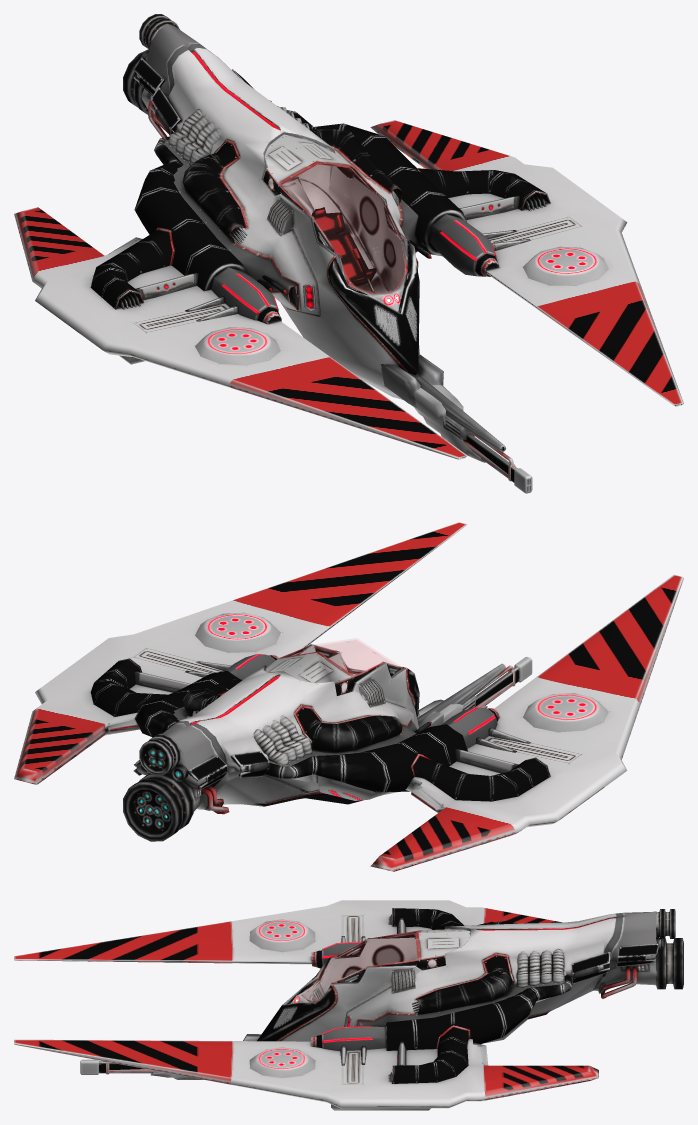
Rendered from spaceship.gltf.
3 views of the same model, one above another, from view 1: azimuth 30°, elevation 25°; view 2: azimuth 150°, elevation 25°; view 3: azimuth 270°, elevation 25° (orthographic). The views are drawn at different scales.
Parts seen in each view (by area): view 1: Spaceship, Door, Glass; view 2: Spaceship, Door, Glass; view 3: Spaceship, Door, Glass.
Part boxes in pixels (x1,y1,x2,y2): Spaceship: (14, 14, 683, 493); Door: (263, 136, 404, 257); Glass: (278, 162, 407, 293); Spaceship: (14, 522, 683, 871); Door: (266, 645, 402, 695); Glass: (280, 640, 402, 676); Spaceship: (14, 900, 683, 1110); Door: (310, 929, 470, 991); Glass: (301, 930, 419, 1002).
Bounding box in the file's own units: 7.38 × 2.86 × 10.26.
2 materials, 2 textured.
